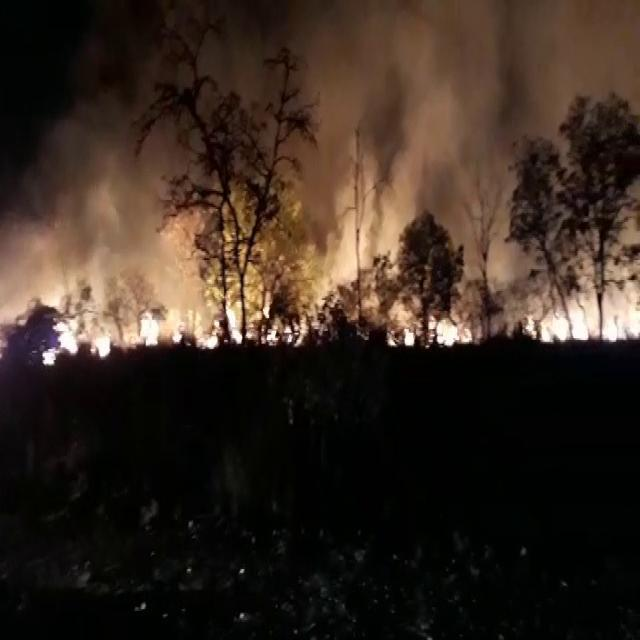Fire: (134, 284, 245, 346), (40, 286, 114, 364)
Smoke: (5, 11, 637, 367), (1, 89, 204, 286), (376, 44, 481, 256)
